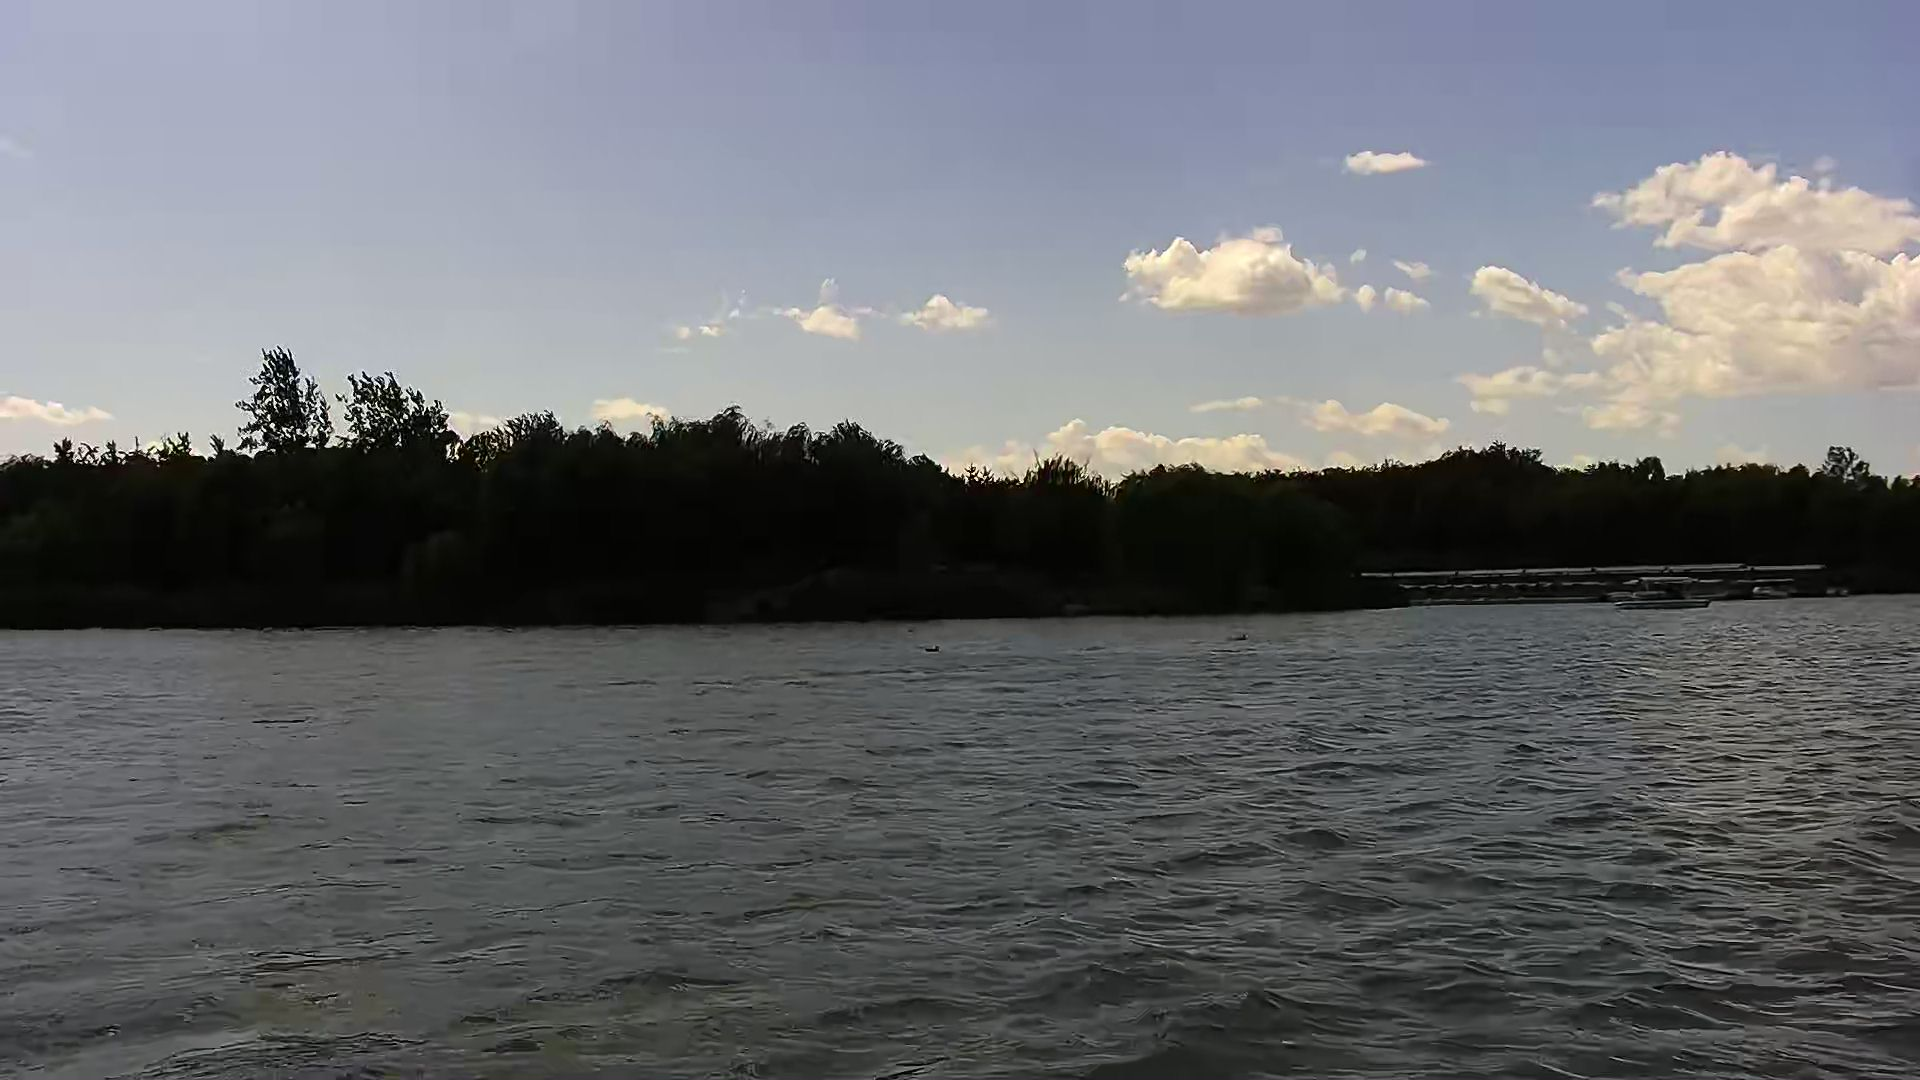boat: (1604, 574, 1716, 616)
harbor: (1354, 558, 1833, 632)
